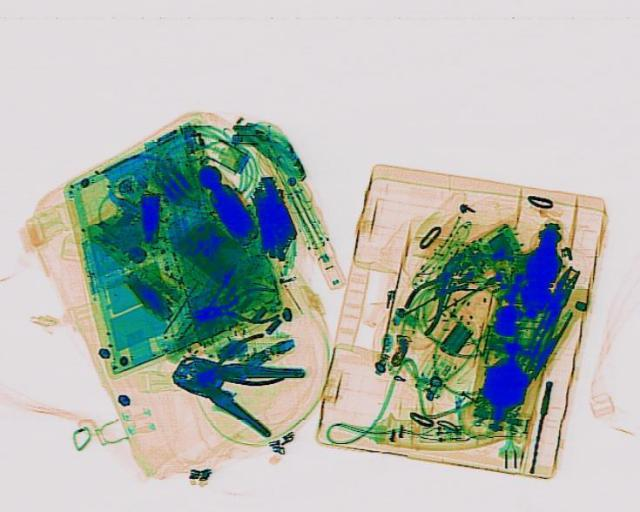Pliers: (153, 332, 310, 438), (388, 242, 482, 336), (181, 332, 285, 400), (178, 282, 286, 332)
